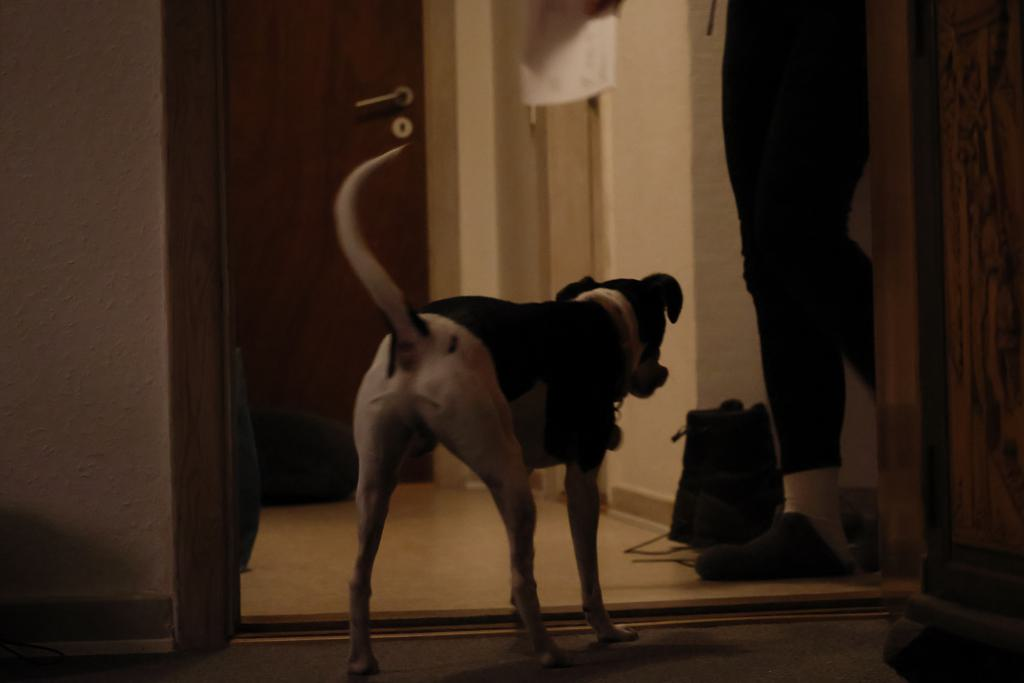Dog: (323, 137, 697, 683)
Humanoid: (584, 0, 894, 586)
